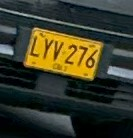number plate: (24, 27, 103, 79)
